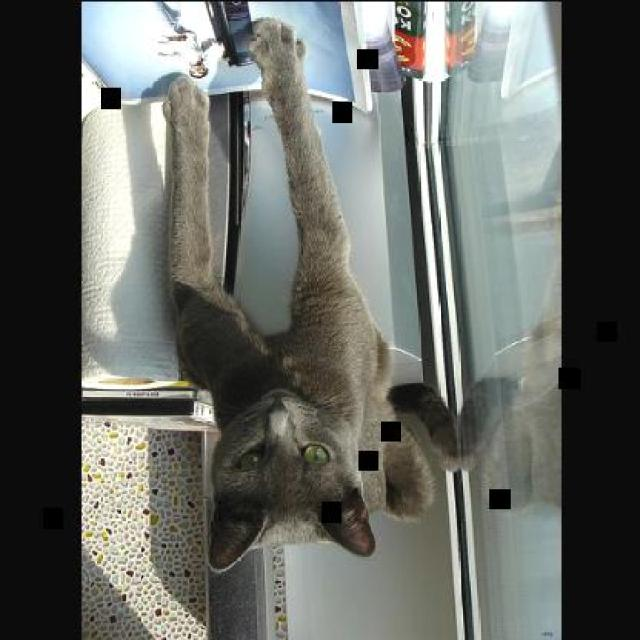unauthorized: (160, 15, 462, 572)
